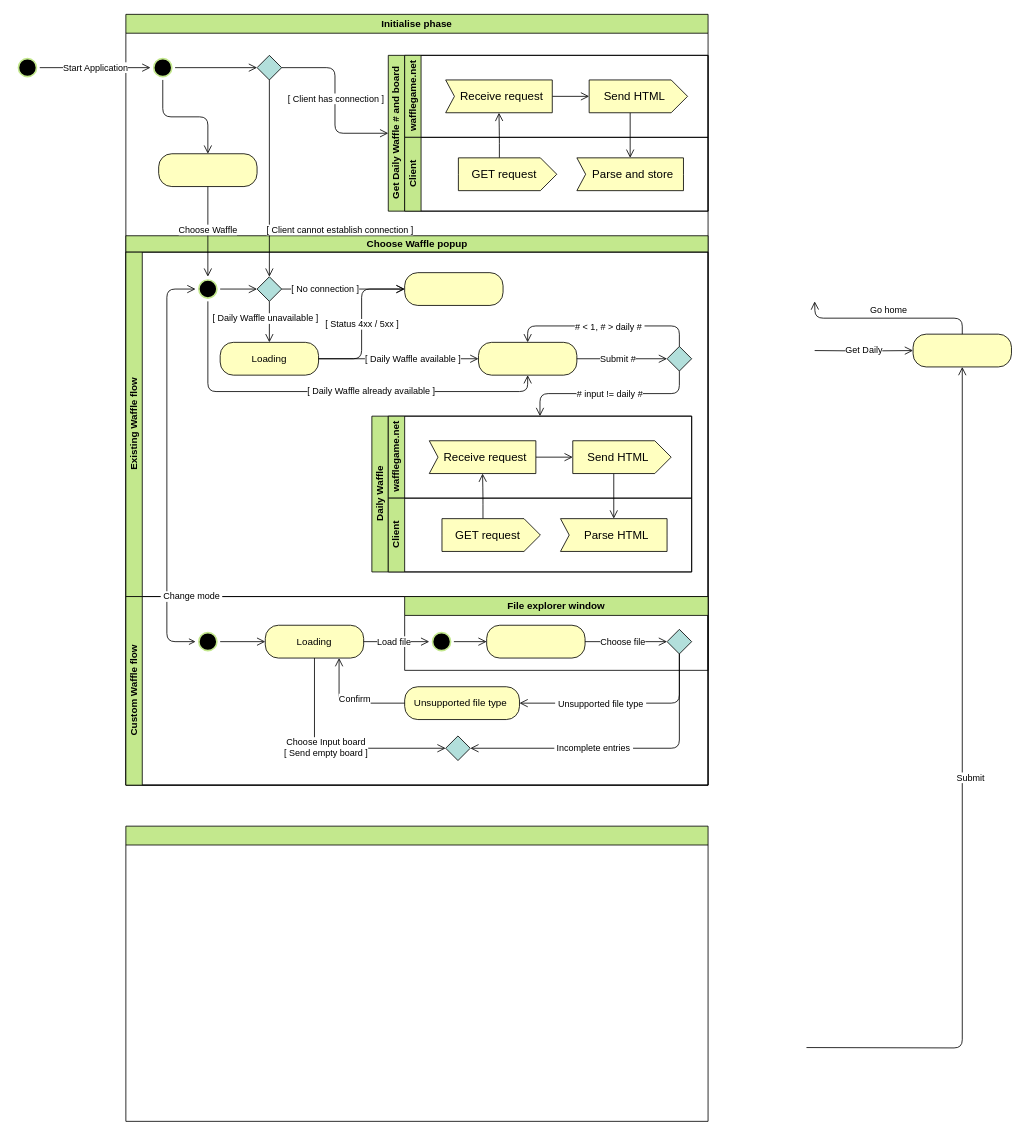
Image size: 1026x1136. Some labels were removed from this diagram. Each missing label, with the centre of its shape:
Choose Waffle #: point 527,358
Edit Waffle: point 416,973
File explorer: point 535,641
Solver screen: point 961,350
Startup screen: point 207,170
Wafflegame unavailable: point 453,288
